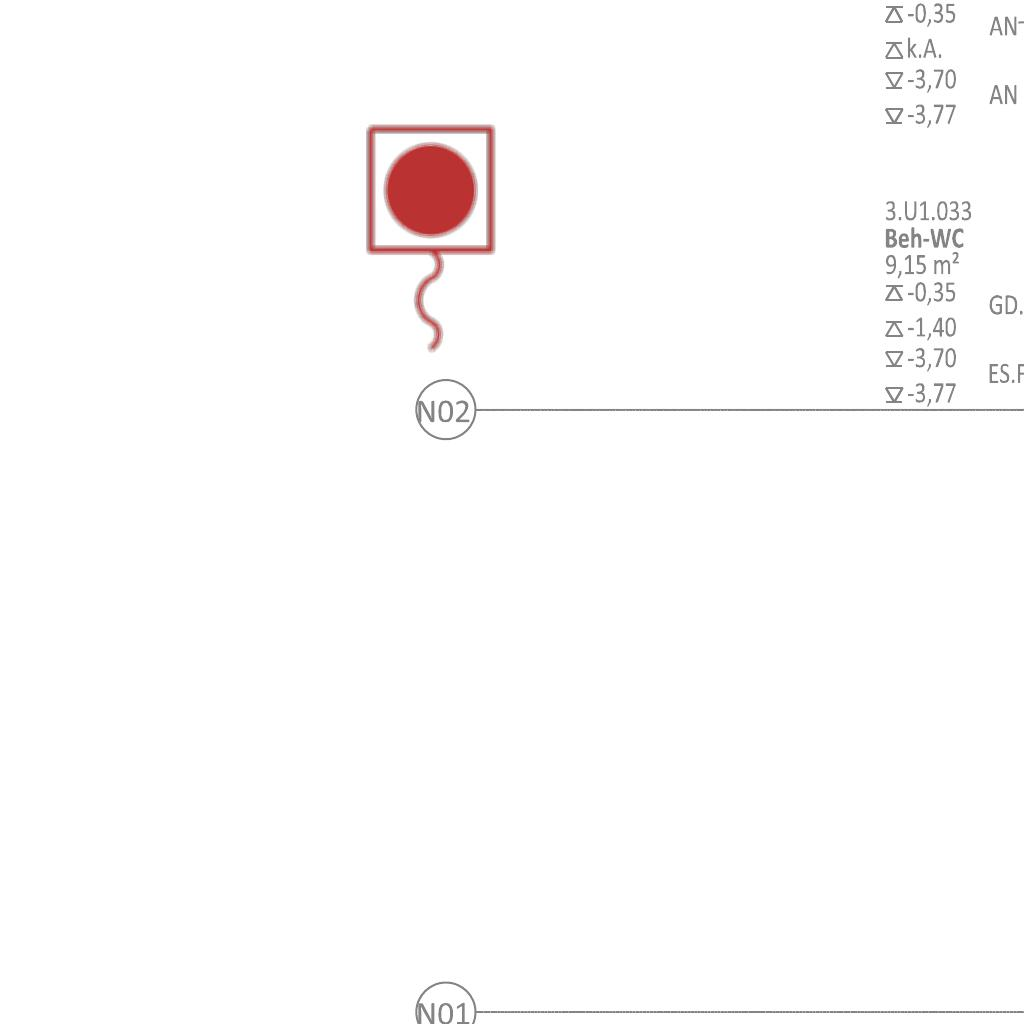Zugtaster: (357, 118, 501, 362)
